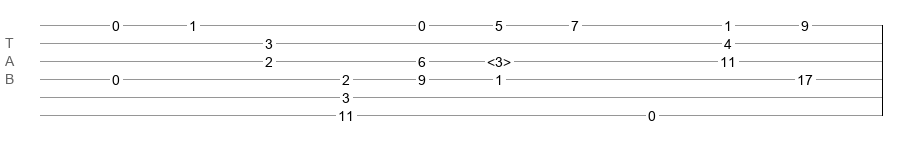0: (112, 72, 120, 82), (112, 18, 120, 28), (418, 18, 426, 28), (648, 108, 656, 118)
1: (189, 18, 197, 28), (495, 72, 503, 82), (724, 18, 732, 28)
11: (338, 108, 354, 118), (720, 54, 736, 64)
17: (797, 72, 813, 82)
2: (265, 54, 273, 64), (342, 72, 350, 82)
3: (265, 36, 273, 46), (342, 90, 350, 100)
4: (724, 36, 732, 46)
5: (495, 18, 503, 28)
6: (418, 54, 426, 64)
7: (571, 18, 579, 28)
9: (418, 72, 426, 82), (801, 18, 809, 28)
harmonic: (487, 54, 511, 64)
